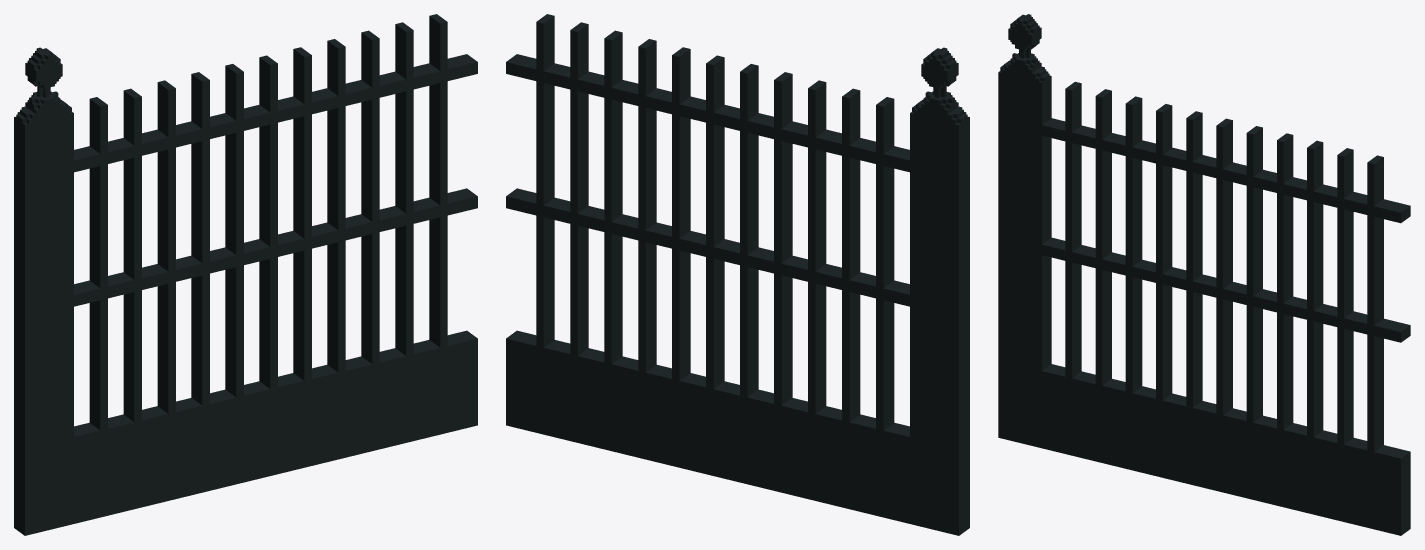
File: Fences.fbx
The picture shows the model from 3 angles, left to right: view 1: azimuth 30°, elevation 25°; view 2: azimuth 150°, elevation 25°; view 3: azimuth 330°, elevation 25°; orthographic projection. The views are drawn at different scales.
Parts seen in each view (by area): view 1: Object; view 2: Object; view 3: Object.
Boxes of the visible parts, x1,y1,x2,y2 form: Object: (14, 14, 477, 535); Object: (506, 14, 969, 535); Object: (998, 14, 1410, 535).
Bounding box in the file's own units: 120 × 120 × 5.
